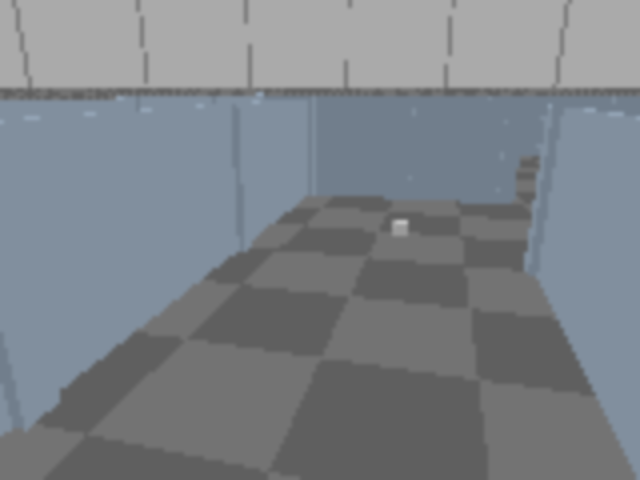puck: (393, 218, 409, 236)
